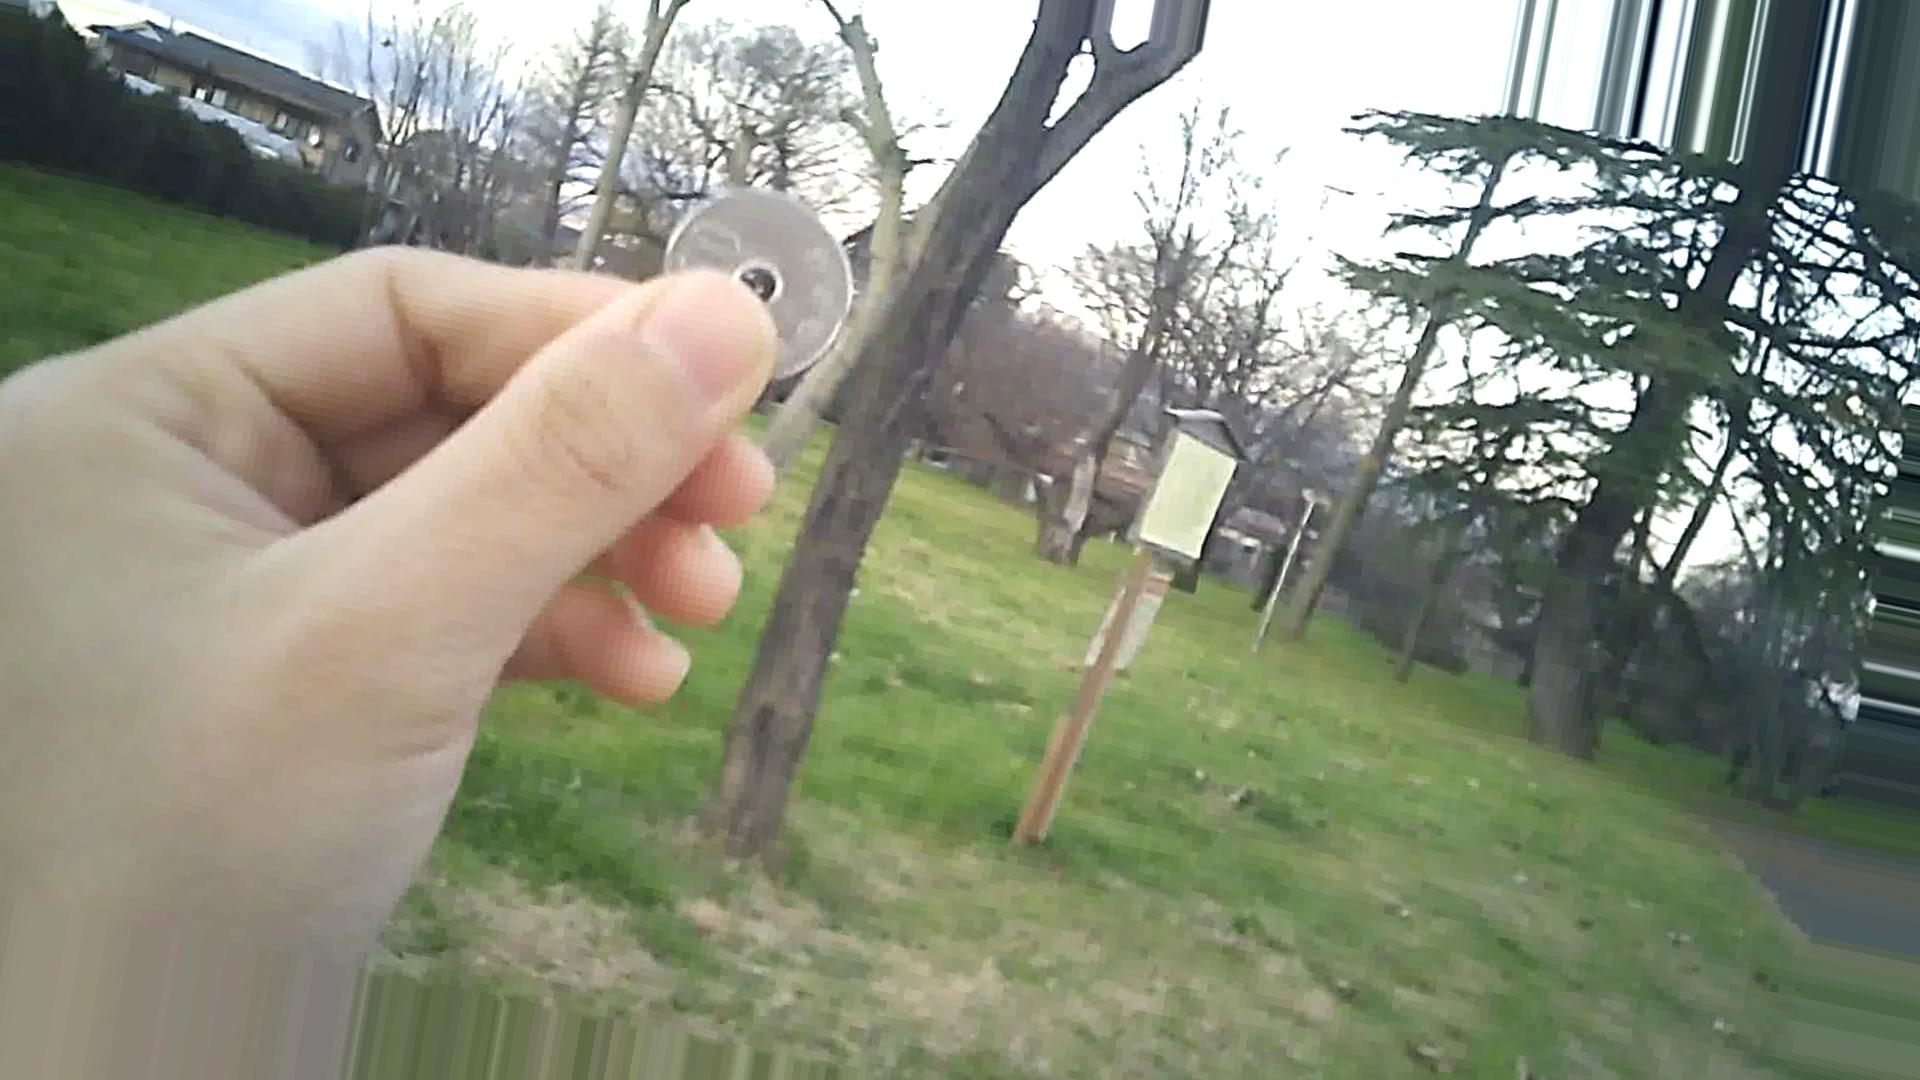50 Yen: (651, 187, 870, 396)
